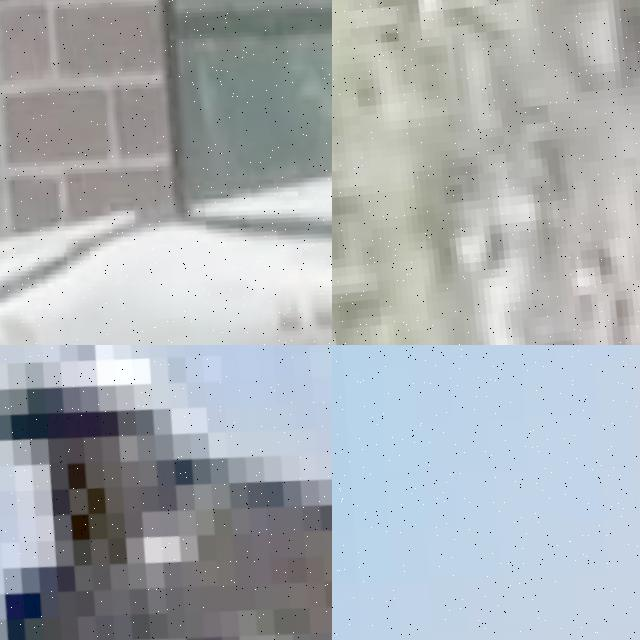drone: (0, 0, 332, 345), (0, 345, 332, 640), (332, 345, 640, 640)
